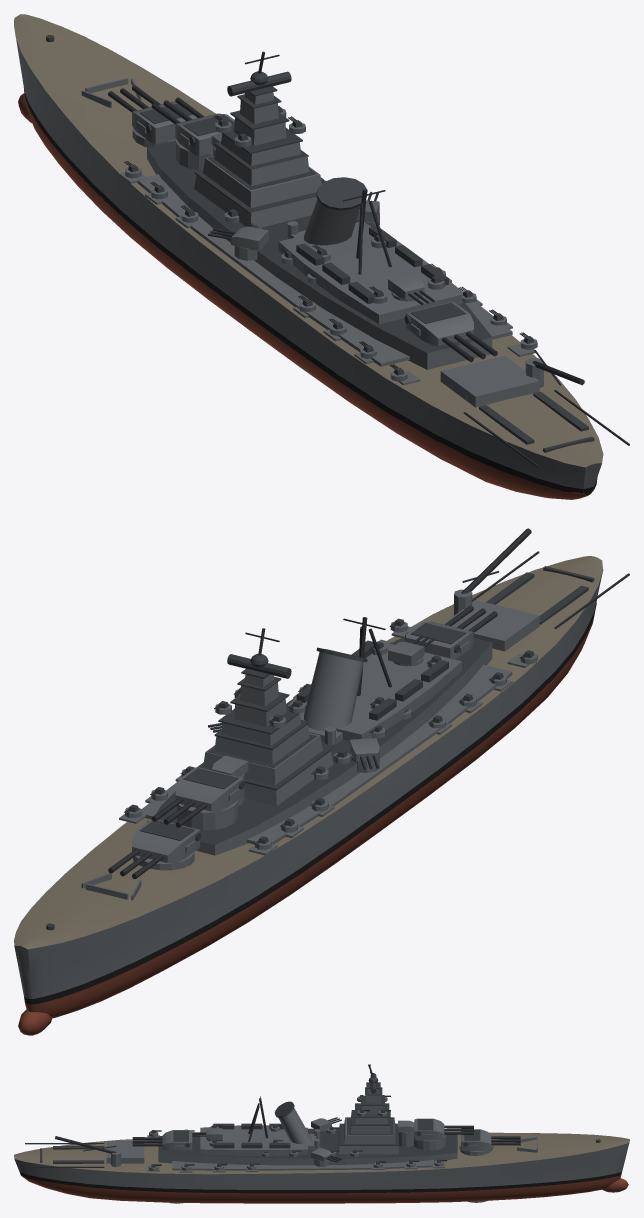
The model's file is yamato.glb.
3 renders of one model, top to bottom at view 1: azimuth 30°, elevation 25°; view 2: azimuth 150°, elevation 25°; view 3: azimuth 270°, elevation 25°, orthographic. The views are drawn at different scales.
Parts seen in each view (by area): view 1: yamato_hull, turret_C, turret_A, turret_B, barrels_C; view 2: yamato_hull, turret_B, turret_A, turret_C; view 3: yamato_hull, turret_B, turret_C, turret_A, barrels_C, barrels_A, barrels_B.
Boxes of the visible parts, x1,y1,x2,y2 form: yamato_hull: [14, 14, 629, 499]; turret_C: [404, 302, 473, 346]; turret_A: [132, 101, 197, 143]; turret_B: [175, 113, 234, 155]; barrels_C: [442, 331, 497, 362]; yamato_hull: [14, 528, 629, 1035]; turret_B: [175, 767, 244, 811]; turret_A: [132, 819, 201, 863]; turret_C: [404, 621, 473, 659]; yamato_hull: [14, 1064, 629, 1203]; turret_B: [414, 1118, 444, 1140]; turret_C: [162, 1130, 192, 1150]; turret_A: [461, 1129, 491, 1151]; barrels_C: [132, 1137, 162, 1146]; barrels_A: [491, 1136, 520, 1145]; barrels_B: [444, 1125, 473, 1134].
Size of the model in its own units: 45.36 by 62.32 by 263.
